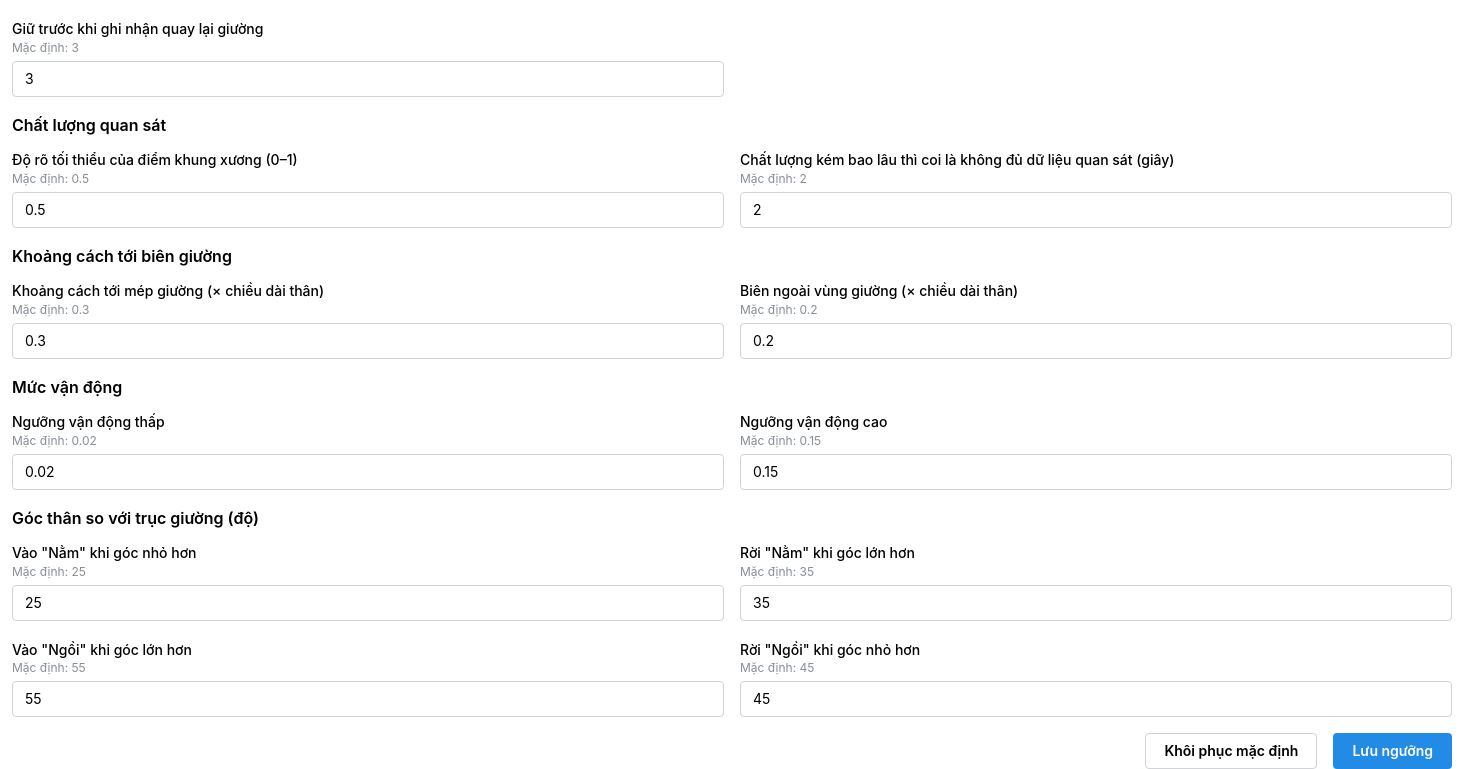
Test: ThresholdsForm › blocks save when a threshold relation is broken
(page scrolled)
Replace the text in the field labelled "Ngưỡng vận động thấp" with "0.2": point(368, 472) x1=12 y1=454 x2=724 y2=490
(page scrolled)
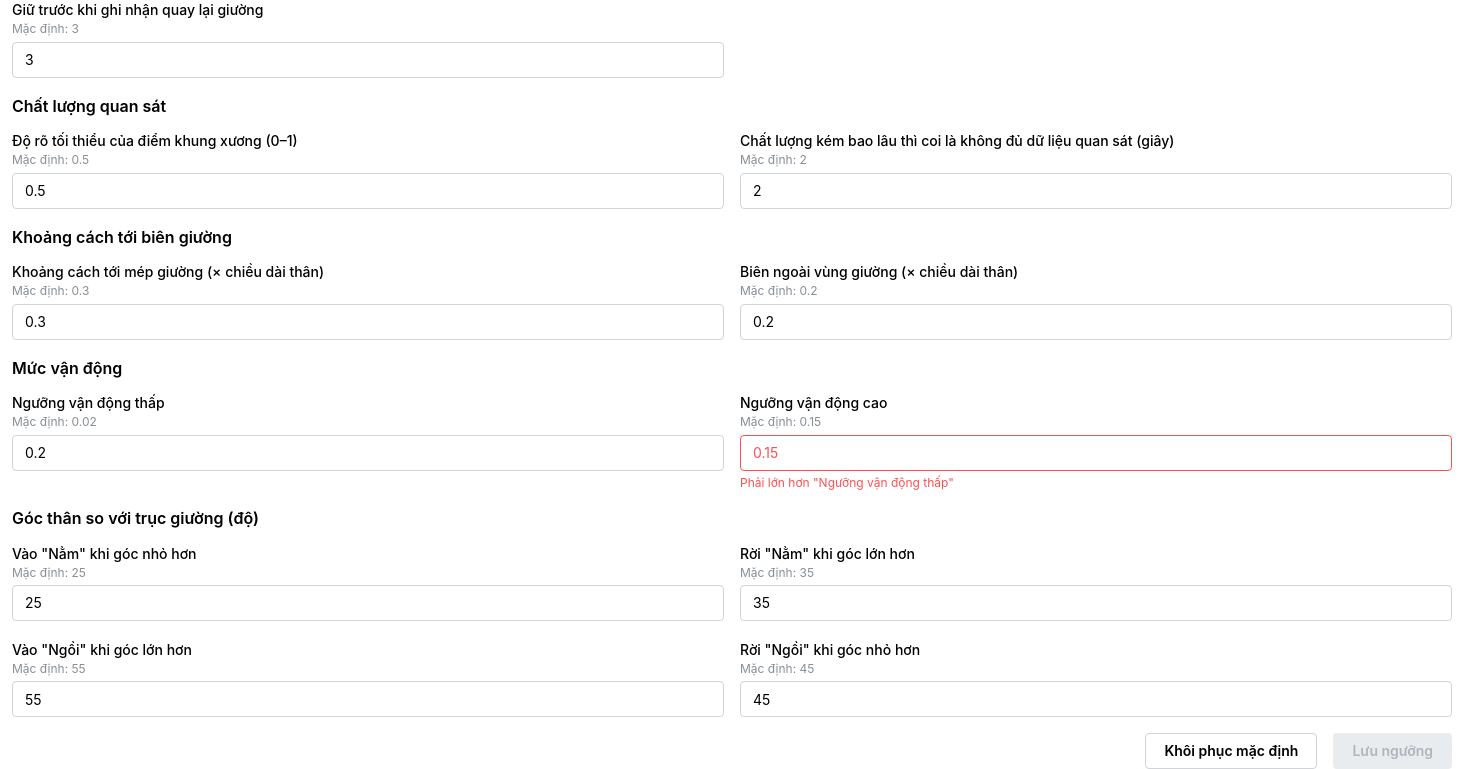
expect the button "Lưu ngưỡng" is disabled: met, box x1=1333 y1=733 x2=1452 y2=768
